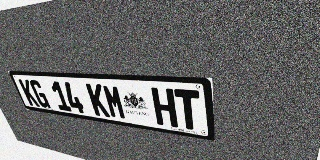1: (48, 81, 72, 112)
4: (61, 82, 85, 114)
G: (28, 80, 51, 108)
H: (151, 87, 178, 128)
K: (85, 83, 110, 117), (18, 79, 40, 107)
M: (102, 84, 127, 120)
T: (174, 89, 202, 131)
